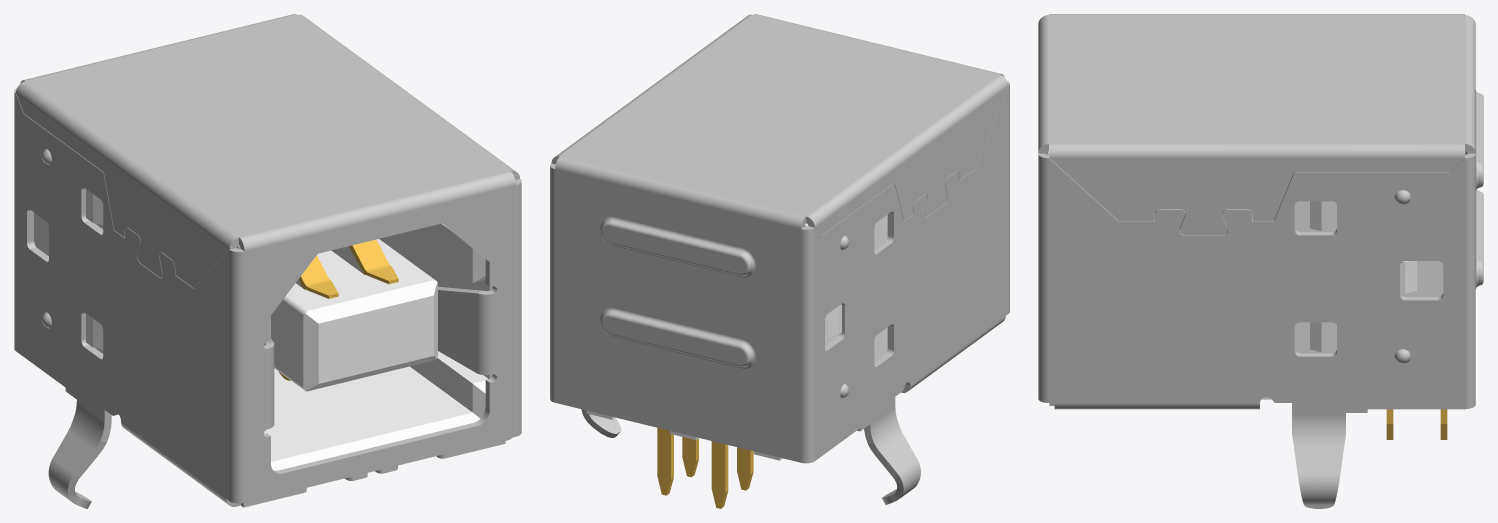
The model's file is USB-B.glb.
The picture shows the model from 3 angles, left to right: view 1: azimuth 30°, elevation 25°; view 2: azimuth 150°, elevation 25°; view 3: azimuth 270°, elevation 25°; orthographic projection. The views are drawn at different scales.
Visible parts, largest first — view 1: User Library-Samtec - USB-B-S-X-W-TH, User Library-Samtec - USB-B-S-X-W-TH_rear shell-USB BF TH___, User Library-Samtec - USB-B-S-X-W-TH_contact02-USB BF TH____ (×2); view 2: User Library-Samtec - USB-B-S-X-W-TH_rear shell-USB BF TH___, User Library-Samtec - USB-B-S-X-W-TH, User Library-Samtec - USB-B-S-X-W-TH_contact02-USB BF TH____ (×2), User Library-Samtec - USB-B-S-X-W-TH_contact01-USB BF TH____ (×2); view 3: User Library-Samtec - USB-B-S-X-W-TH, User Library-Samtec - USB-B-S-X-W-TH_rear shell-USB BF TH___.
Boxes of the visible parts, x1,y1,x2,y2 form: User Library-Samtec - USB-B-S-X-W-TH: (34, 51, 521, 508); User Library-Samtec - USB-B-S-X-W-TH_rear shell-USB BF TH___: (14, 14, 351, 387); User Library-Samtec - USB-B-S-X-W-TH_contact02-USB BF TH____ (×2): (298, 239, 398, 298); User Library-Samtec - USB-B-S-X-W-TH_rear shell-USB BF TH___: (550, 123, 860, 463); User Library-Samtec - USB-B-S-X-W-TH: (581, 14, 1009, 504); User Library-Samtec - USB-B-S-X-W-TH_contact02-USB BF TH____ (×2): (657, 428, 728, 508); User Library-Samtec - USB-B-S-X-W-TH_contact01-USB BF TH____ (×2): (682, 437, 753, 490); User Library-Samtec - USB-B-S-X-W-TH: (1038, 14, 1443, 508); User Library-Samtec - USB-B-S-X-W-TH_rear shell-USB BF TH___: (1367, 14, 1483, 409).
Bounding box in the file's own units: 0.0148 × 0.0146 × 0.0165.
